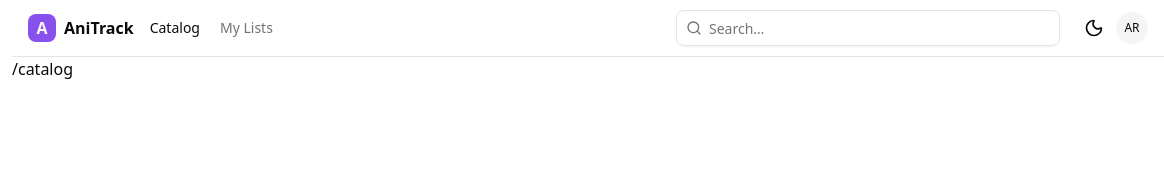
it: Header — menú de cuenta (4.13) › CA: el avatar abre un menú con perfil, ajustes y cerrar sesión
// El trigger es el avatar, que no tiene texto: se lo nombra por aria-label.
Click the button "AR": (1132, 28) [1116, 12, 1148, 44]
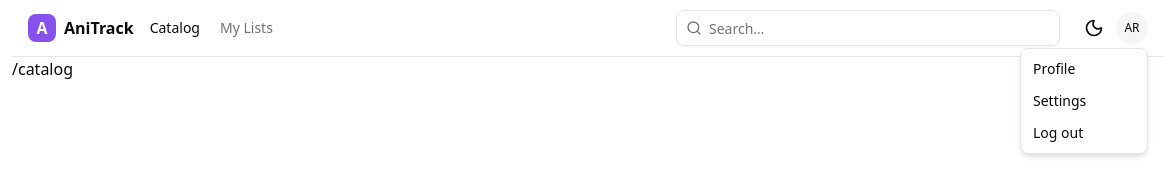
Expected: the menu items read "Profile", "Settings", "Log out", in this order, [1033, 59, 1075, 78]; [1033, 91, 1086, 110]; [1033, 123, 1083, 142]
